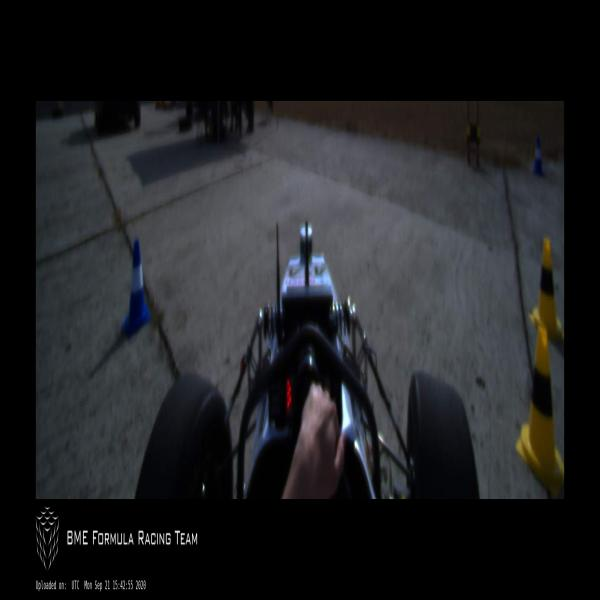blue_cone: (121, 240, 150, 340), (531, 136, 544, 178)
yellow_cone: (515, 326, 564, 496), (529, 237, 564, 344)
